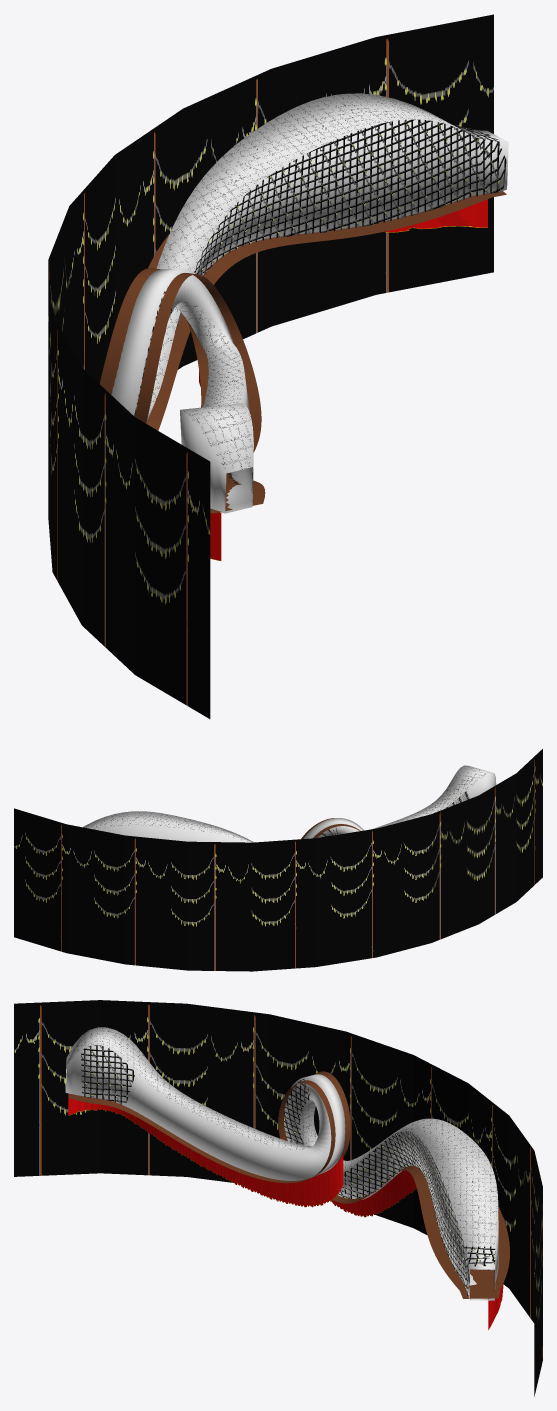
The model's file is Level2.fbx.
The picture shows the model from 3 angles, top to bottom: view 1: azimuth 30°, elevation 25°; view 2: azimuth 150°, elevation 25°; view 3: azimuth 270°, elevation 25°; orthographic projection. The views are drawn at different scales.
Parts seen in each view (by area): view 1: Decorations, WallPhysics, WallTexture, GroundPhysics, GroundDecoration; view 2: Decorations, WallPhysics, WallTexture; view 3: Decorations, WallPhysics, WallTexture, GroundPhysics, GroundDecoration.
Part boxes in pixels (box(x1,y1,x2,y2)): Decorations: box(48, 14, 493, 718); WallPhysics: box(111, 93, 508, 513); WallTexture: box(134, 94, 506, 492); GroundPhysics: box(99, 191, 506, 513); GroundDecoration: box(199, 199, 487, 560); Decorations: box(14, 749, 542, 971); WallPhysics: box(83, 765, 496, 842); WallTexture: box(85, 766, 489, 841); Decorations: box(14, 1000, 542, 1396); WallPhysics: box(65, 1027, 498, 1300); WallTexture: box(69, 1028, 497, 1297); GroundPhysics: box(68, 1071, 509, 1298); GroundDecoration: box(68, 1093, 503, 1330).
Size of the model in its own units: 11098 by 4011 by 11098.
